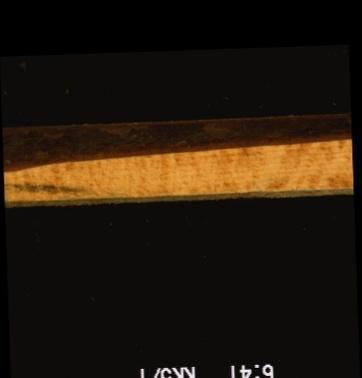wave: (1, 119, 350, 166)
